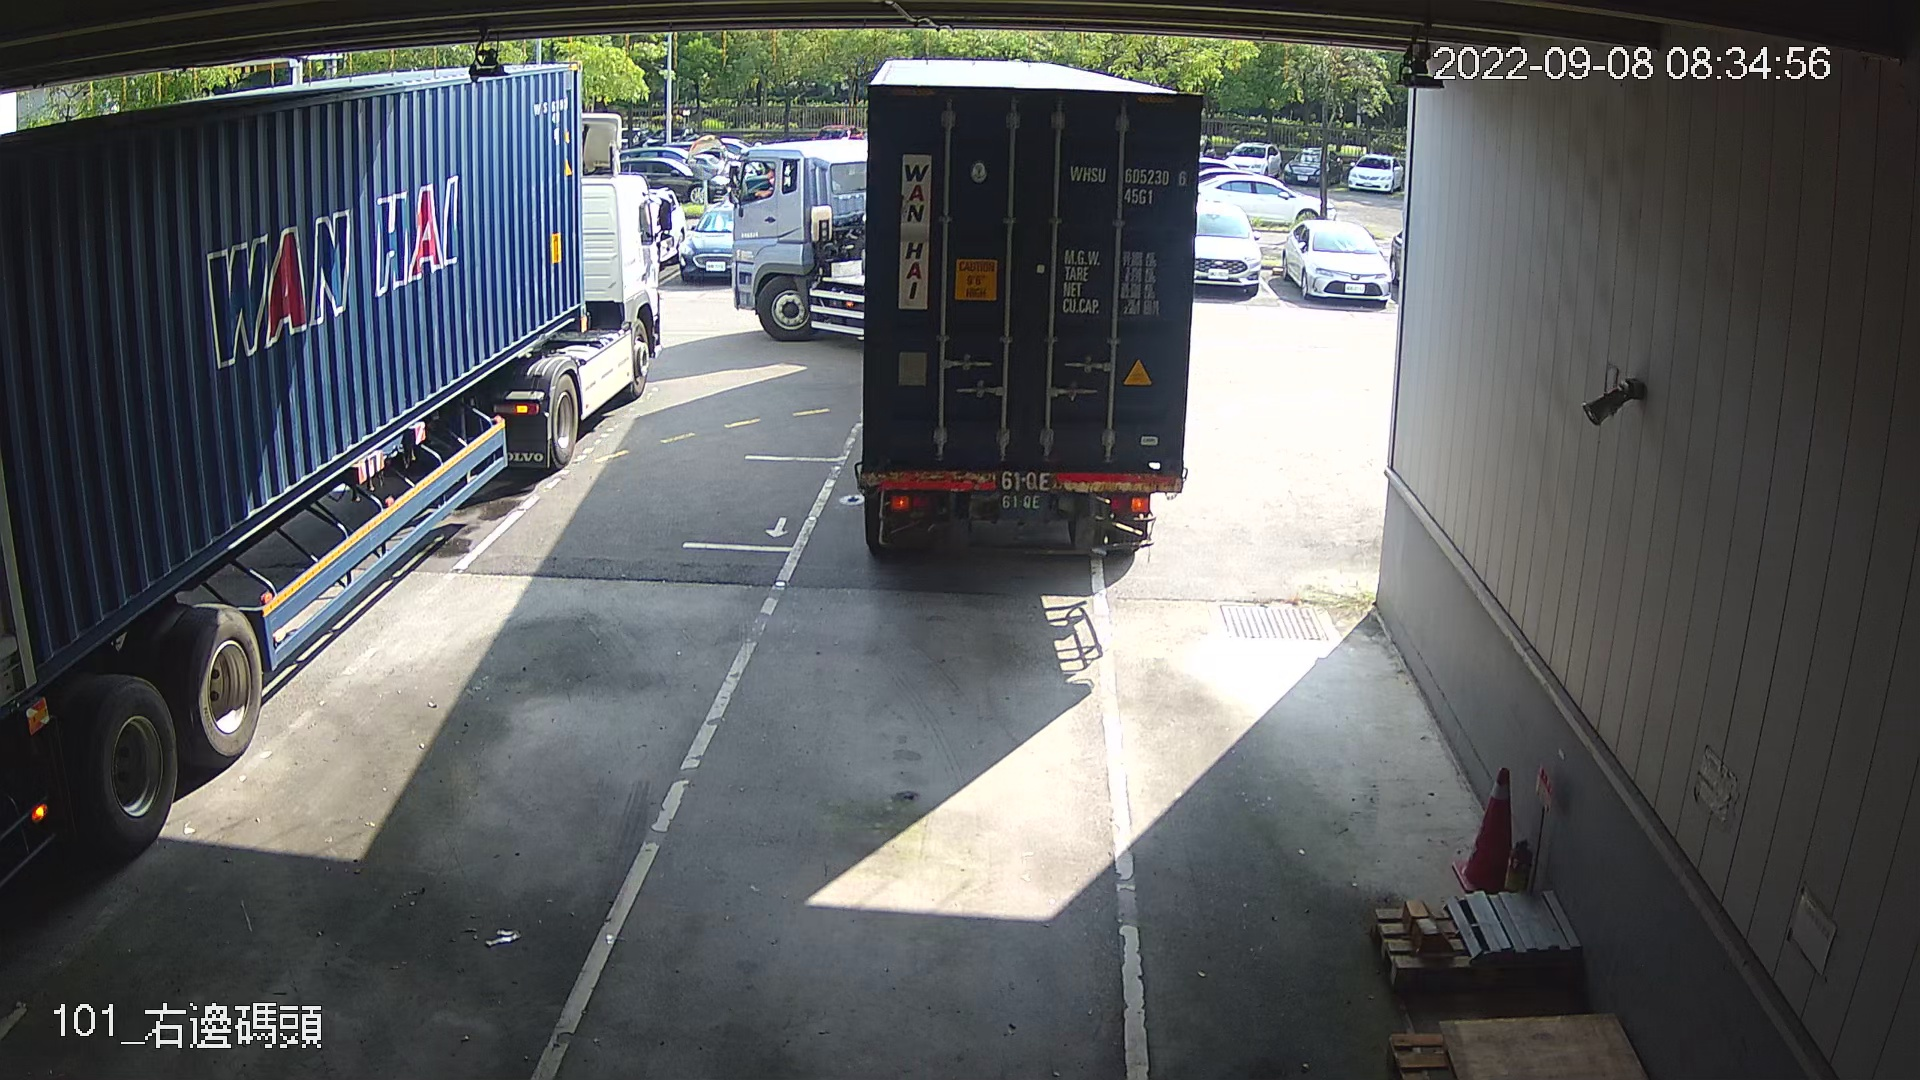container: (1062, 152, 1193, 211)
